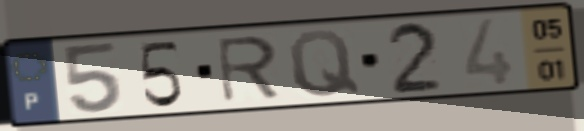2: (386, 18, 445, 95)
4: (460, 16, 518, 89)
5: (59, 39, 126, 116), (136, 38, 187, 109)
Q: (285, 27, 364, 100)
R: (213, 33, 284, 106)
